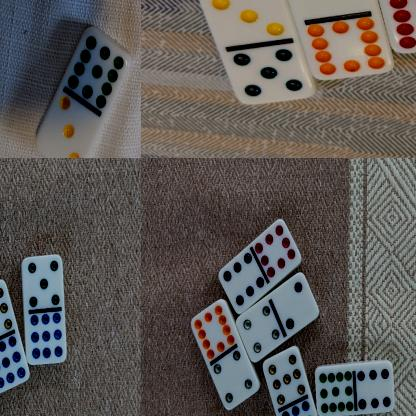pip-10: (307, 14, 386, 80), (190, 300, 234, 361)
pip-11: (68, 32, 127, 110), (314, 364, 353, 416)
pip-12: (387, 0, 416, 54)
pip-2: (272, 274, 318, 330)
pip-3: (198, 0, 283, 45), (34, 95, 93, 158)
pip-4: (212, 350, 257, 412), (235, 307, 279, 362)
pip-5: (232, 43, 310, 106), (22, 254, 63, 312)
pip-6: (218, 254, 264, 315), (355, 362, 394, 416)
pip-7: (262, 346, 304, 408), (0, 279, 12, 340)
pip-8: (254, 220, 300, 279)
pip-9: (26, 313, 66, 367), (0, 337, 27, 396), (281, 403, 321, 416)
